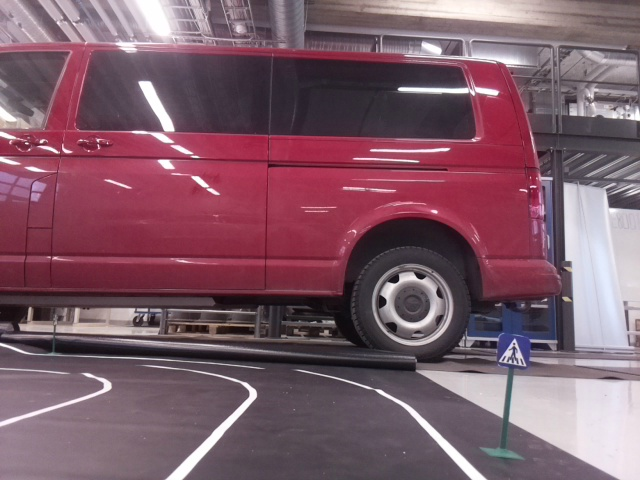Crosswalk: (496, 330, 528, 369)
